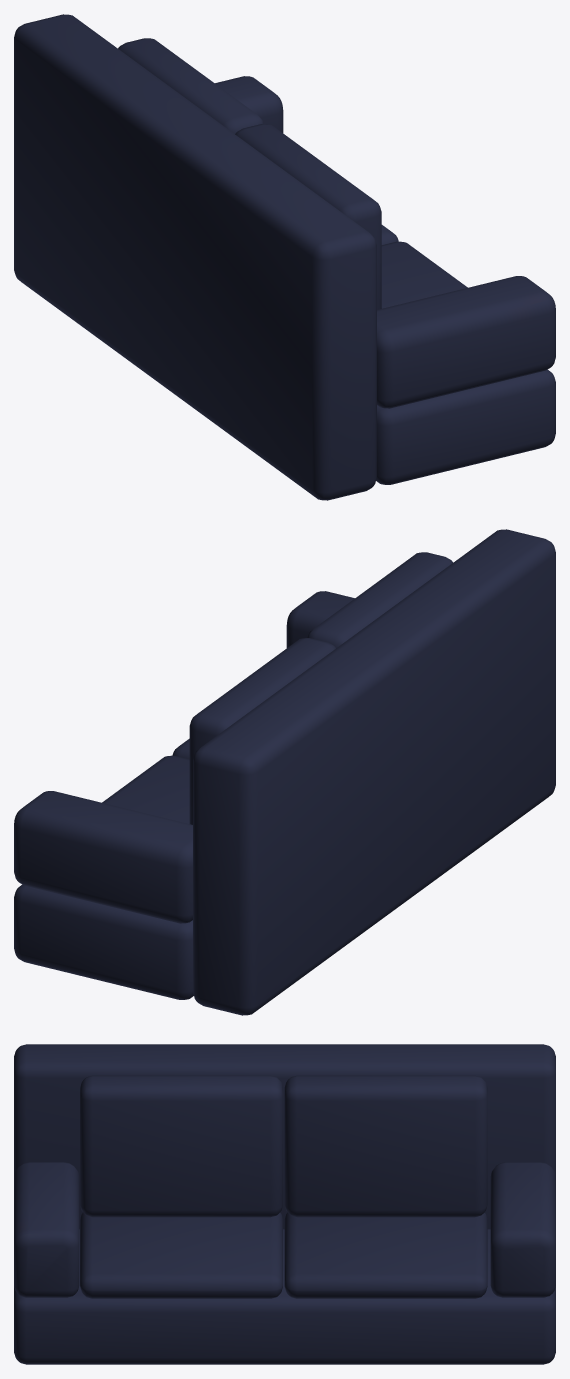
File: couch.glb
3 views of the same model, one above another, from view 1: azimuth 30°, elevation 25°; view 2: azimuth 150°, elevation 25°; view 3: azimuth 270°, elevation 25° (orthographic). The views are drawn at different scales.
Visible parts, largest first — view 1: Couch; view 2: Couch; view 3: Couch.
Part boxes in pixels (<box>): Couch: <box>14,14,555,500</box>; Couch: <box>14,529,555,1015</box>; Couch: <box>14,1044,555,1364</box>.
Bounding box in the file's own units: 0.6725 × 0.6855 × 1.49.
Materials: 1 (1 with a texture image).
